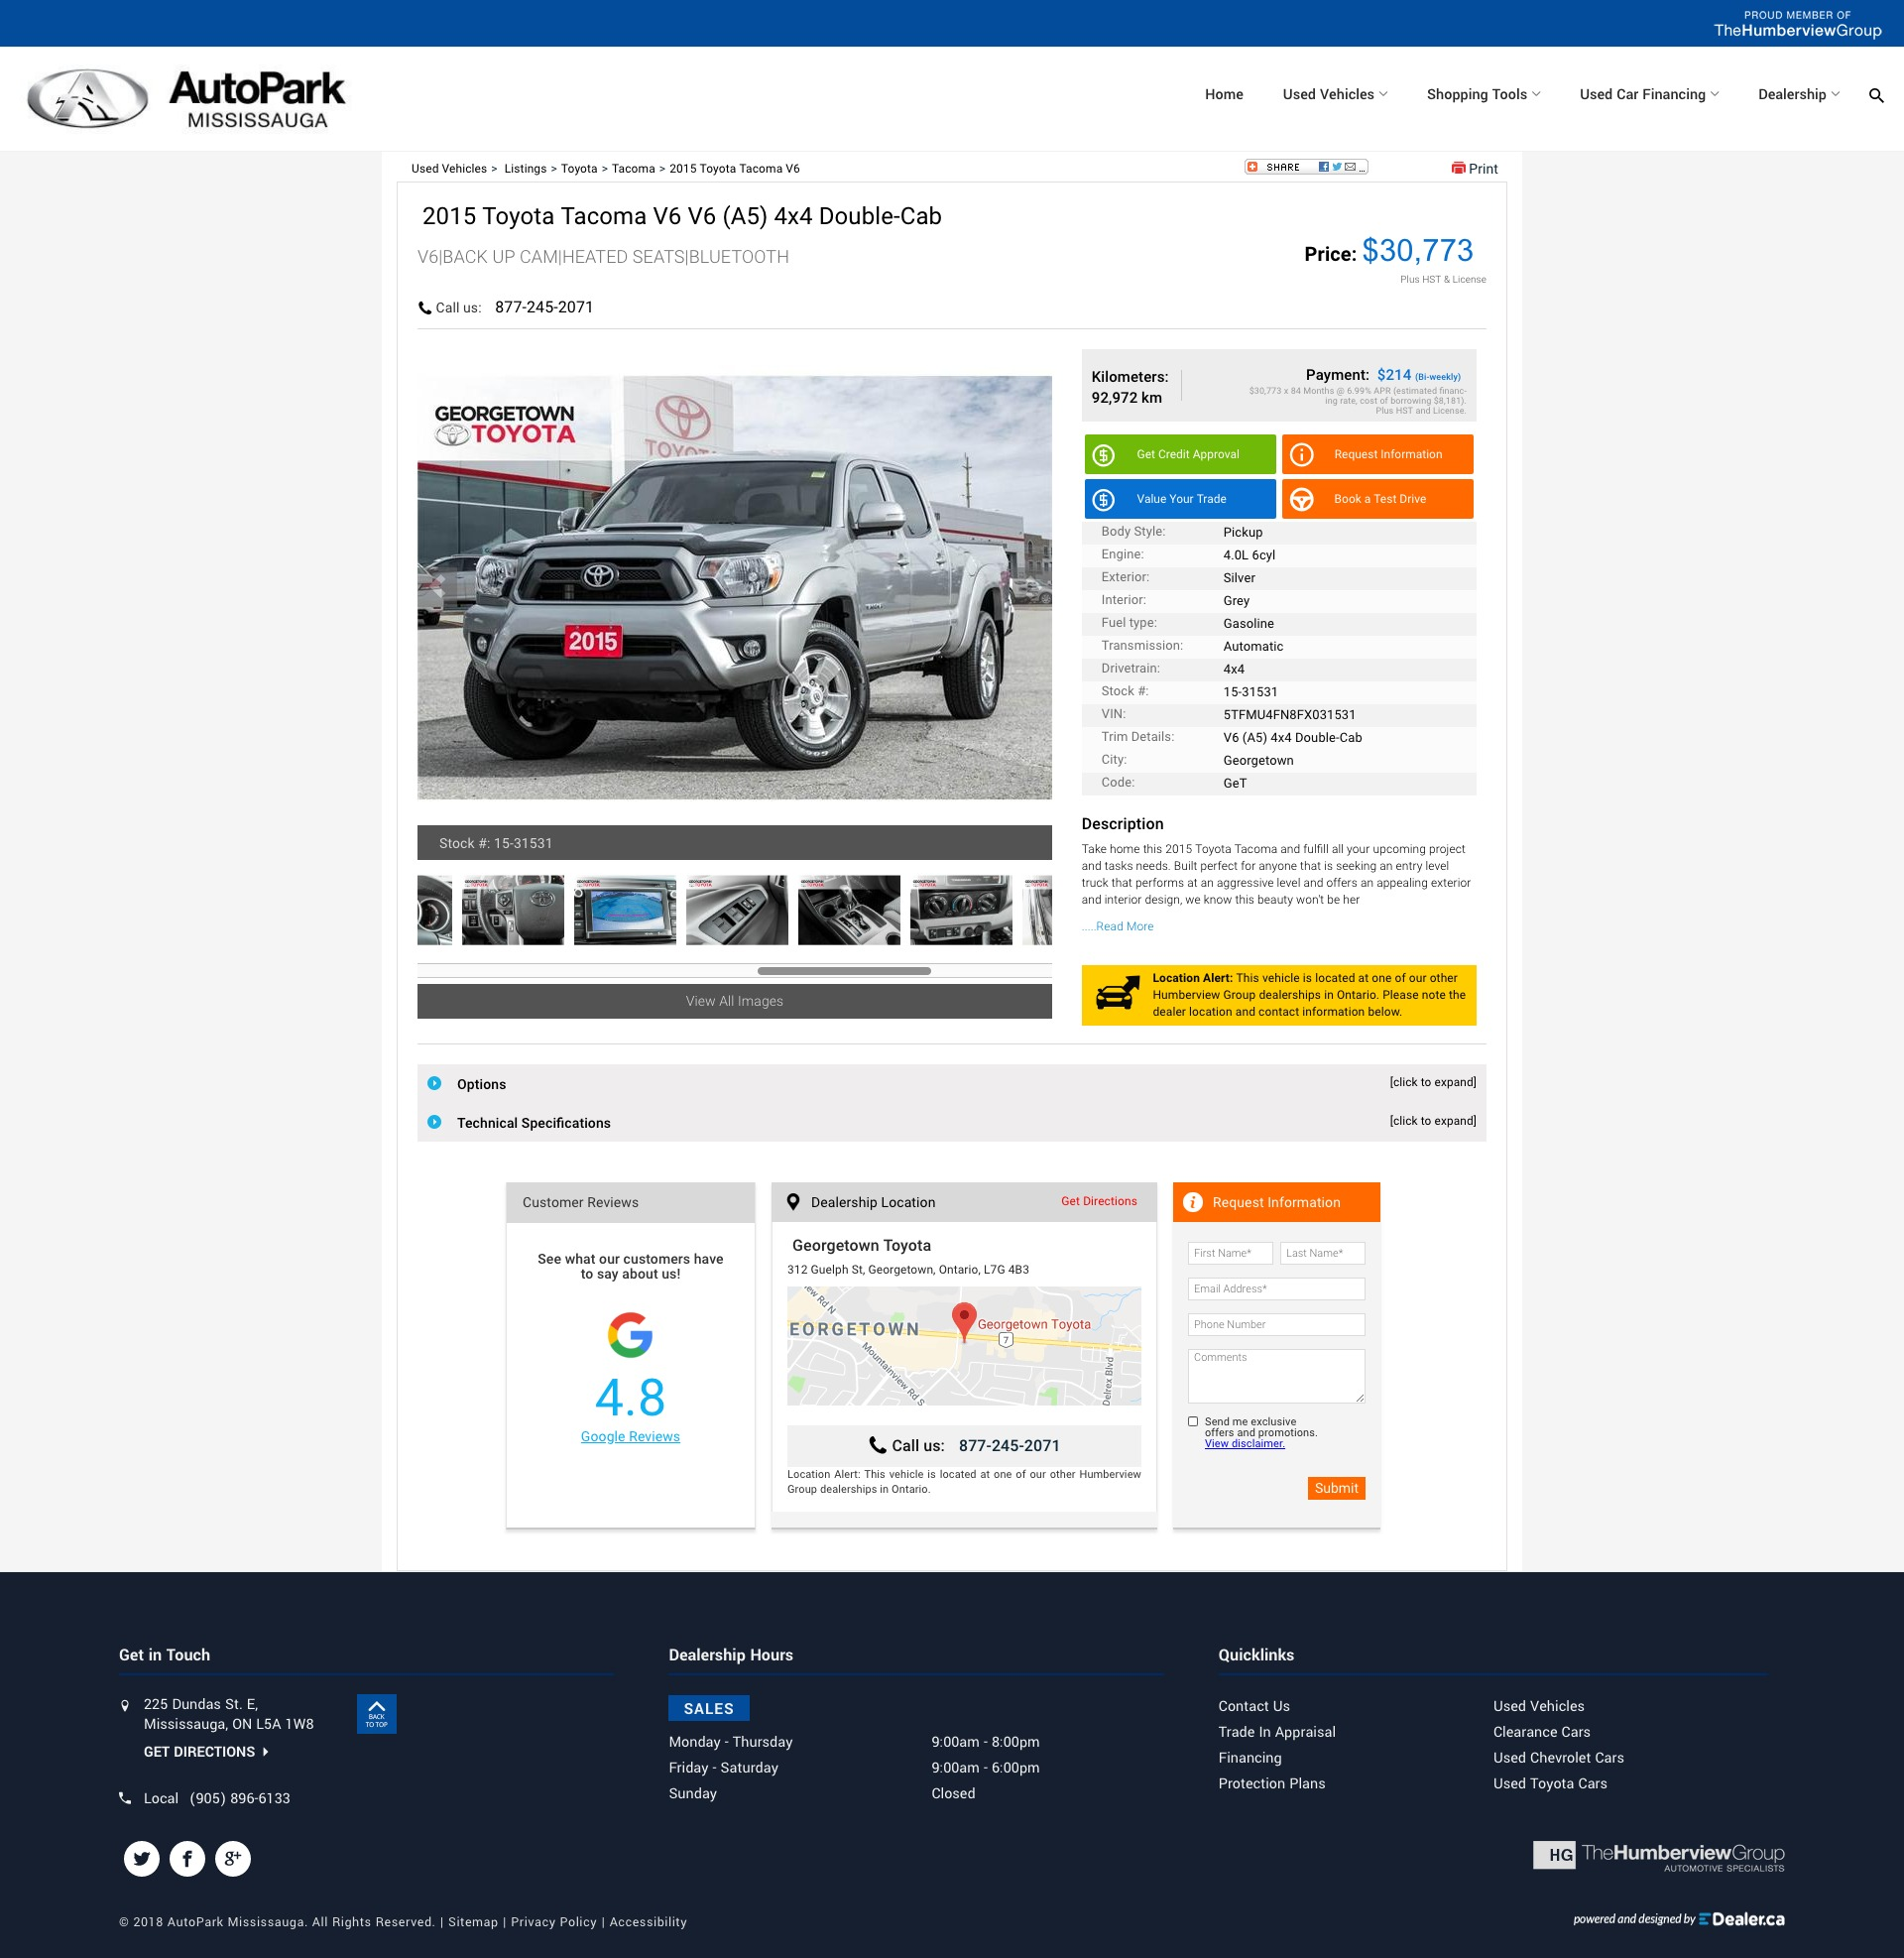car: (1005, 566, 1056, 614)
